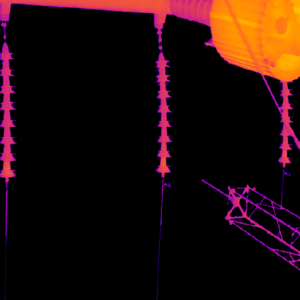insulator: (153, 48, 172, 175), (0, 39, 15, 180), (277, 76, 292, 165)
